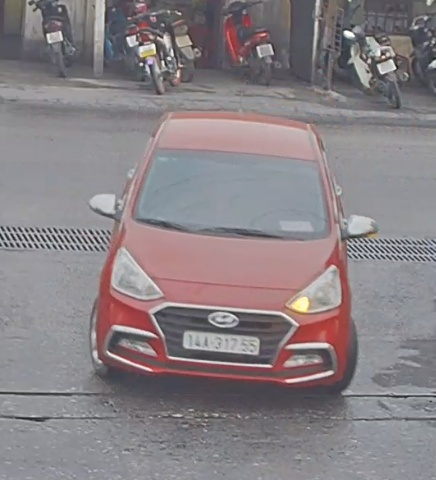vehicle plate: (179, 322, 266, 362)
